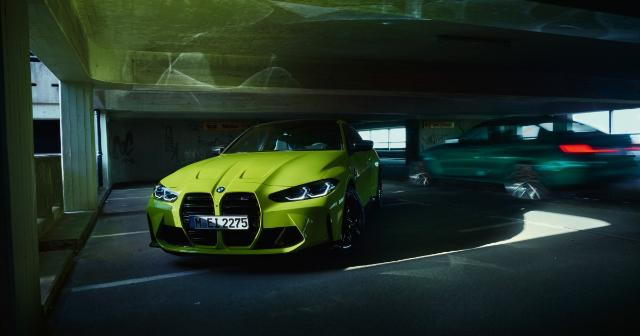bmw: (146, 116, 382, 260)
